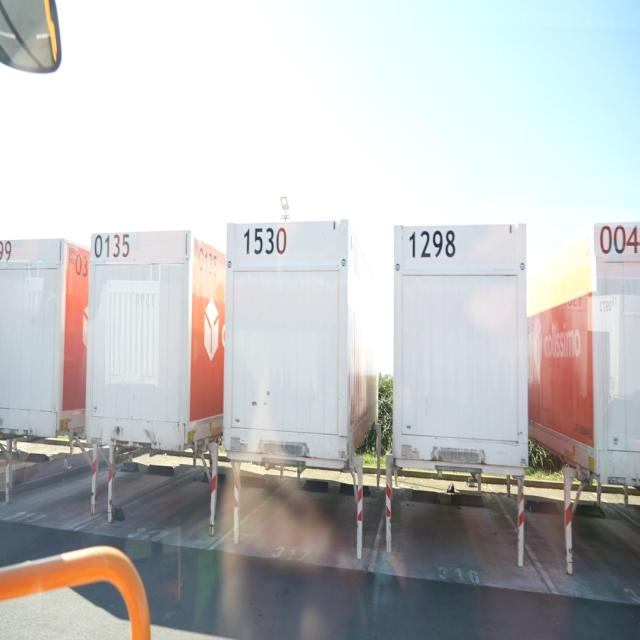Code: (408, 226, 457, 265), (240, 221, 288, 259), (91, 232, 133, 262), (196, 243, 218, 279)
